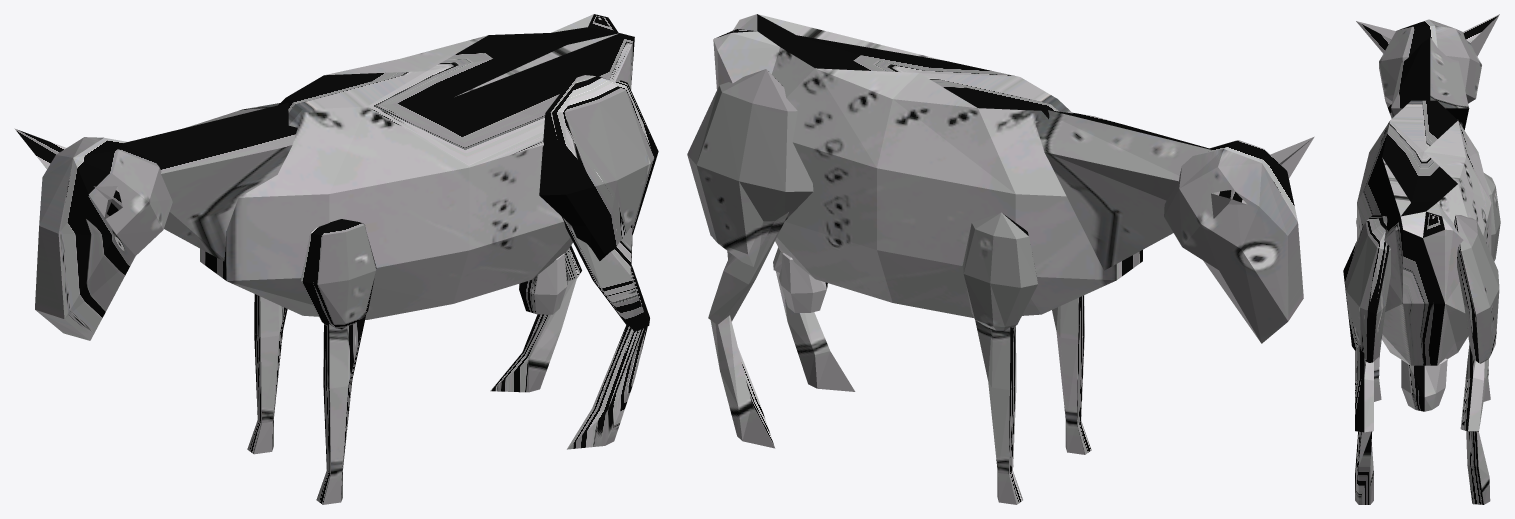
Rendered from Cow2.glb.
3 renders of one model, left to right at view 1: azimuth 30°, elevation 25°; view 2: azimuth 150°, elevation 25°; view 3: azimuth 270°, elevation 25°, orthographic. The views are drawn at different scales.
Visible parts, largest first — view 1: Cow2; view 2: Cow2; view 3: Cow2.
Boxes of the visible parts, box(x1,y1,x2,y2) form: Cow2: box(14, 14, 658, 504); Cow2: box(687, 14, 1314, 504); Cow2: box(1343, 14, 1500, 504).
Bounding box in the file's own units: 273 × 170 × 80.48.
1 material, 1 textured.
